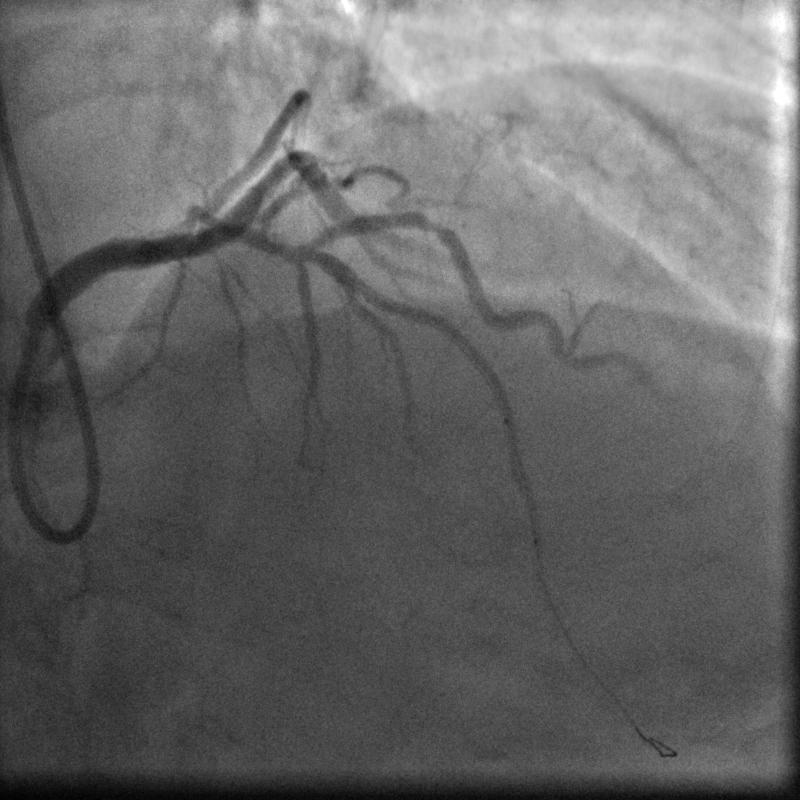Stenosis: (413, 208, 453, 243)
